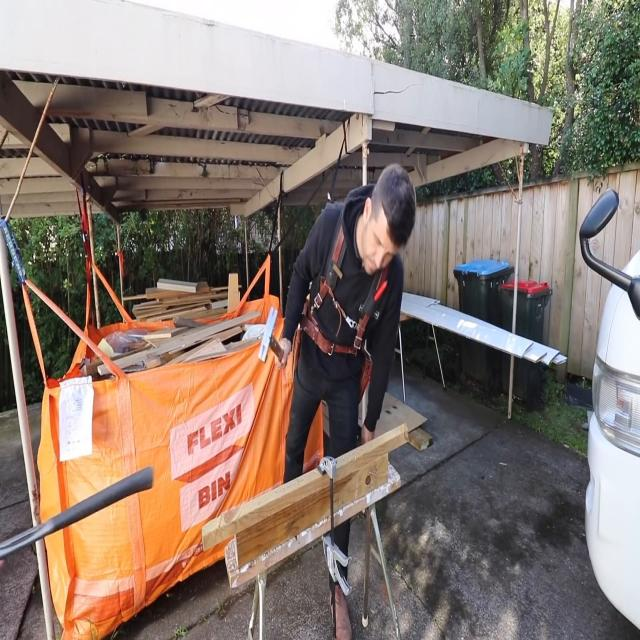hammer: (258, 306, 286, 364)
